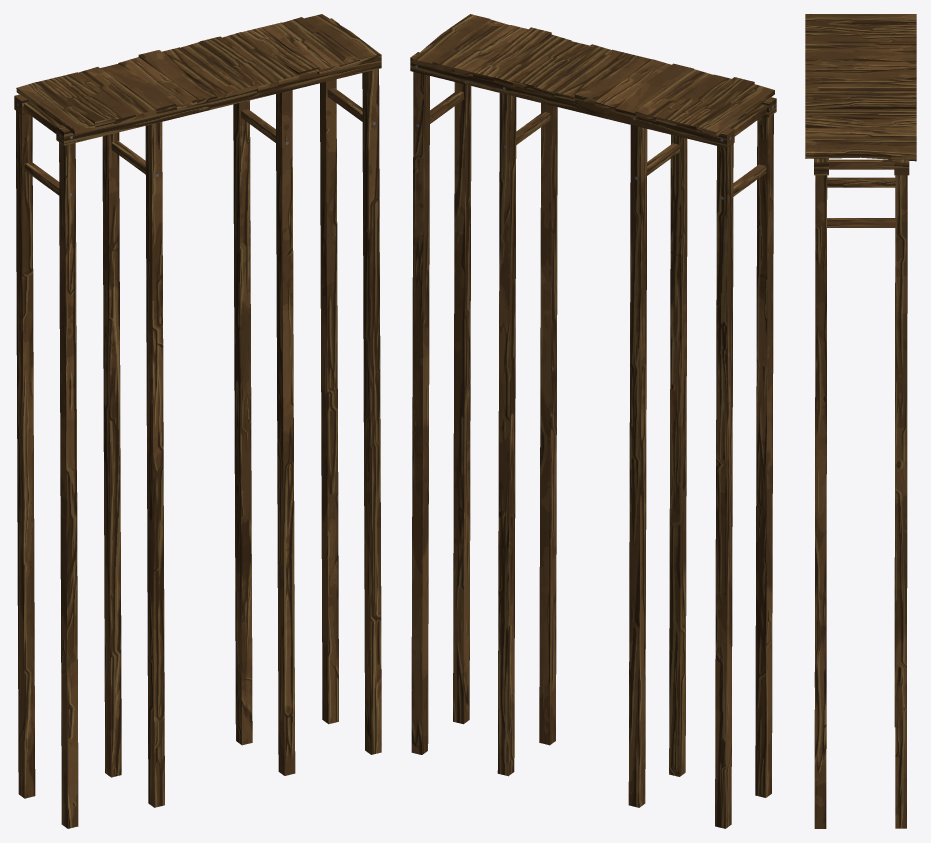
The model's file is GameReadyPlattformA.glb.
The picture shows the model from 3 angles, left to right: view 1: azimuth 30°, elevation 25°; view 2: azimuth 150°, elevation 25°; view 3: azimuth 270°, elevation 25°; orthographic projection. The views are drawn at different scales.
Parts seen in each view (by area): view 1: PlattformA-col; view 2: PlattformA-col; view 3: PlattformA-col.
Part boxes in pixels (left/top/right/bottom): PlattformA-col: left=14, top=14, right=381, bottom=828; PlattformA-col: left=410, top=14, right=776, bottom=828; PlattformA-col: left=805, top=14, right=916, bottom=828.
Bounding box in the file's own units: 5.62 × 11.89 × 1.78.
1 material, 1 textured.
